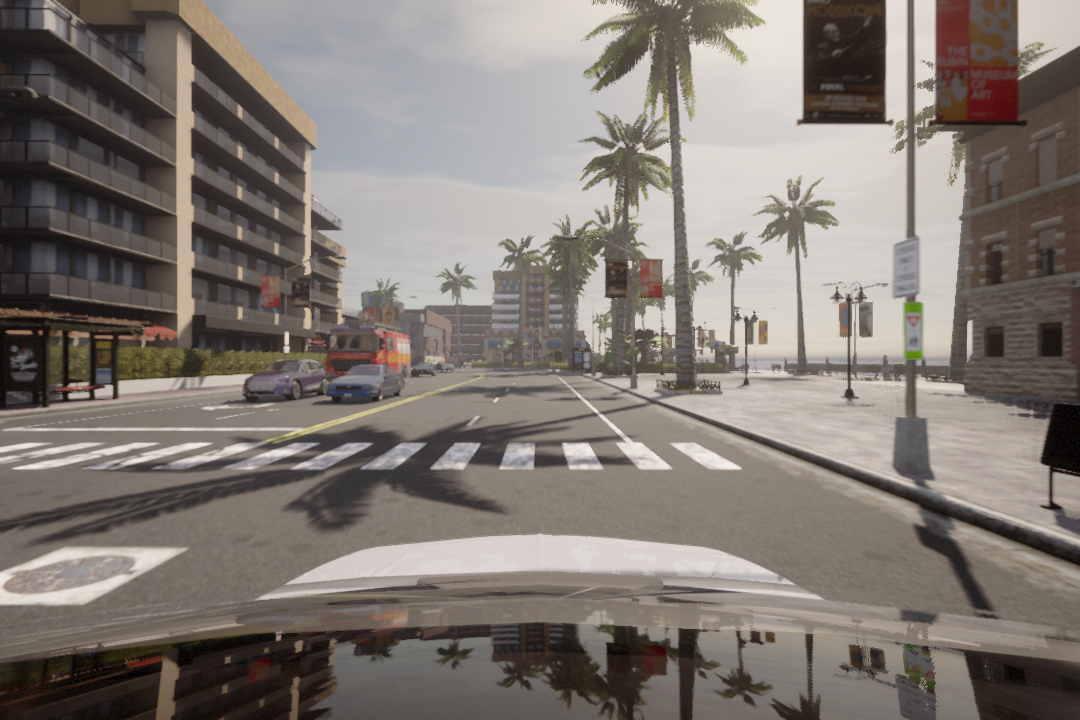walkside: (1, 436, 738, 478)
